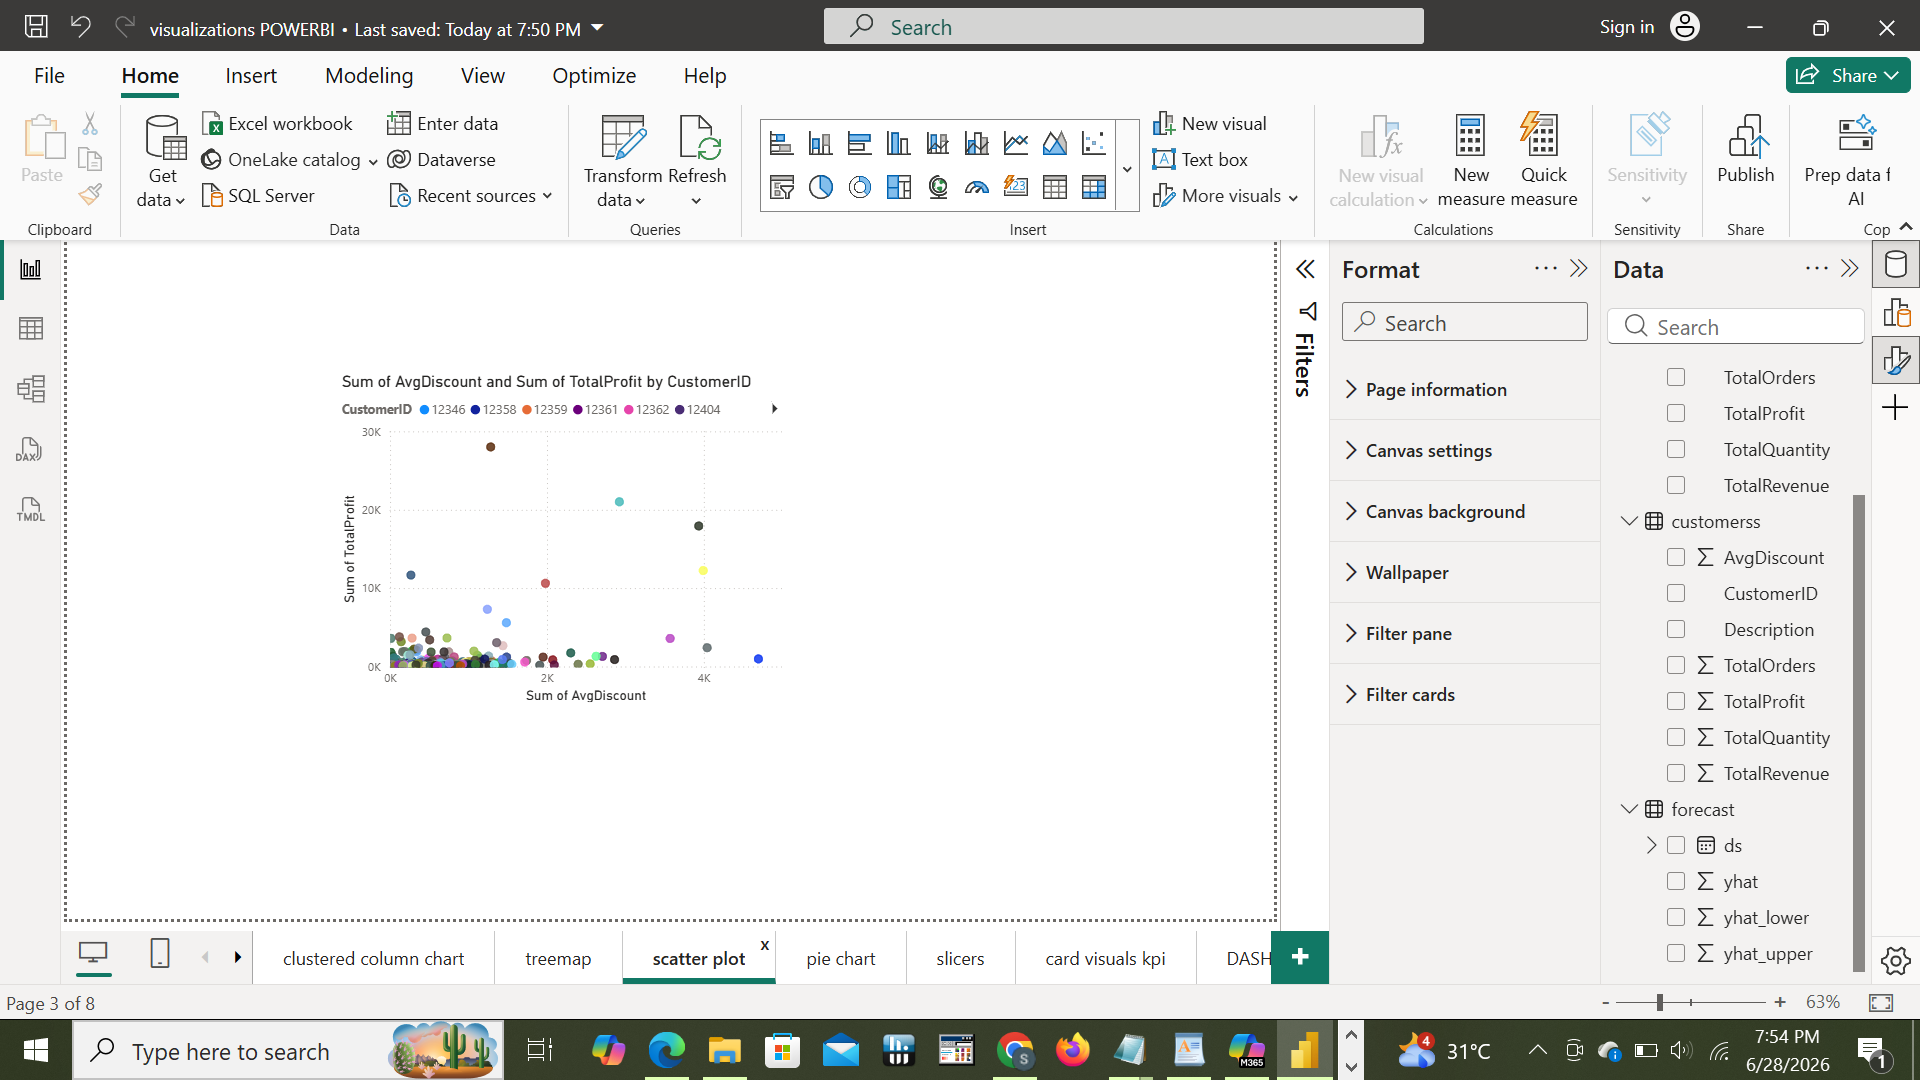

What the dashboard file says about the page in this screenshot:
{"tool":"powerbi","page":{"name":"scatter plot","canvas":[1280,720],"ordinal":2},"visuals":[{"type":"scatterChart","fields":{"X":["Sum(customerss.AvgDiscount)"],"Y":["Sum(customerss.TotalProfit)"],"Series":["customerss.CustomerID"]},"box":[286.3,140.3,483.8,355],"z":0}]}

Visuals, with their boxes on the page's 1280x720 design canvas (x1, y1, x2, y2). These are canvas units, not pixel positions in the 1920x1080 screenshot, which may show the page scaled, cropped or inside an application window:
scatterChart - Sum(customerss.AvgDiscount) x Sum(customerss.TotalProfit): 286, 140, 770, 495
